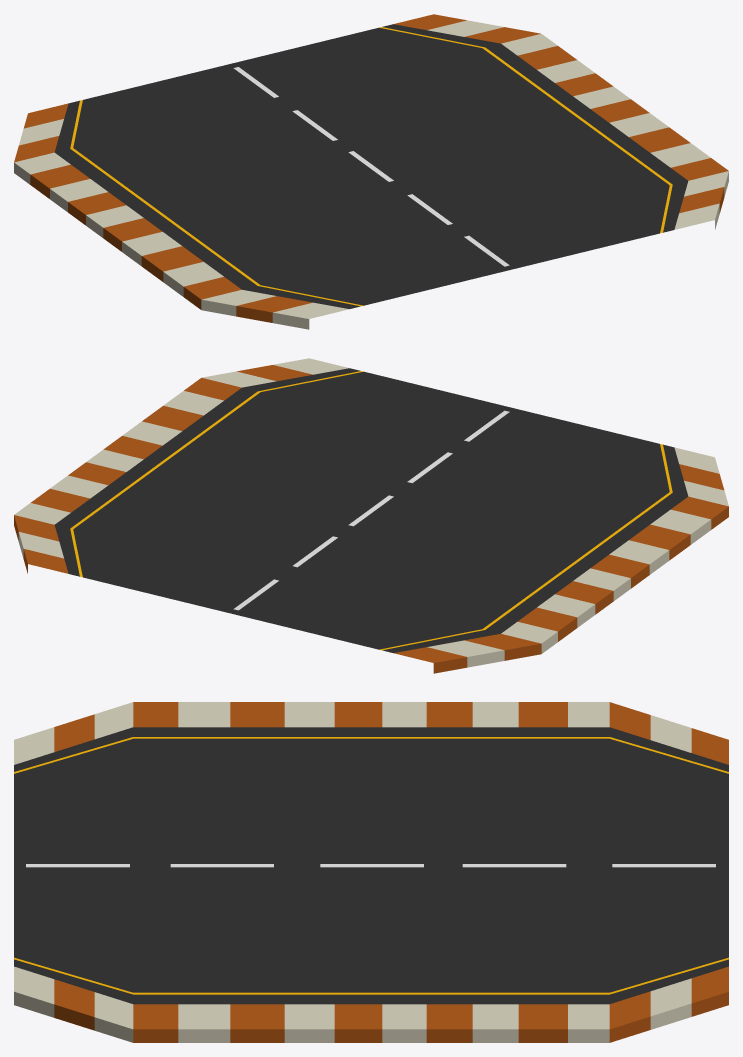
Rendered from SM_Road_07.fbx.
3 renders of one model, top to bottom at view 1: azimuth 30°, elevation 25°; view 2: azimuth 150°, elevation 25°; view 3: azimuth 270°, elevation 25°, orthographic. The views are drawn at different scales.
Visible parts, largest first — view 1: SM_Road_07_LOD0; view 2: SM_Road_07_LOD0; view 3: SM_Road_07_LOD0.
Boxes of the visible parts, x1,y1,x2,y2 form: SM_Road_07_LOD0: (14,14,728,329); SM_Road_07_LOD0: (14,358,728,673); SM_Road_07_LOD0: (14,702,728,1042).
Size of the model in its own units: 1300 by 1200 by 25.
Materials: 1 (1 with a texture image).
